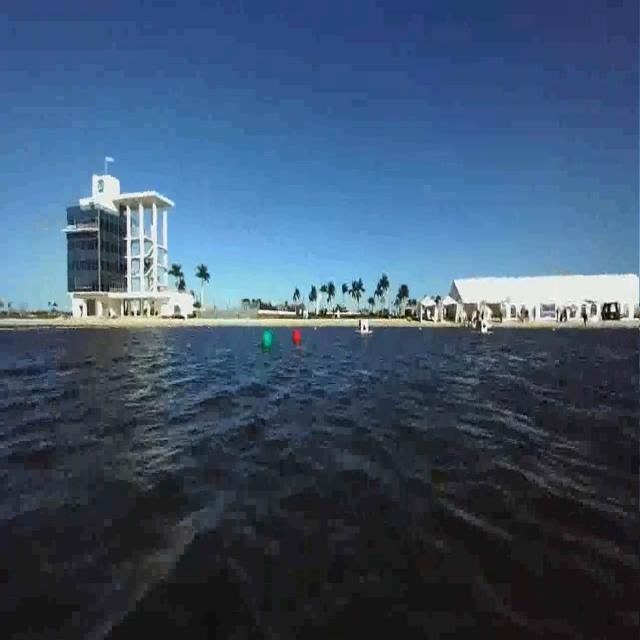green-buoy: (262, 331, 276, 353)
red-buoy: (292, 330, 301, 346)
